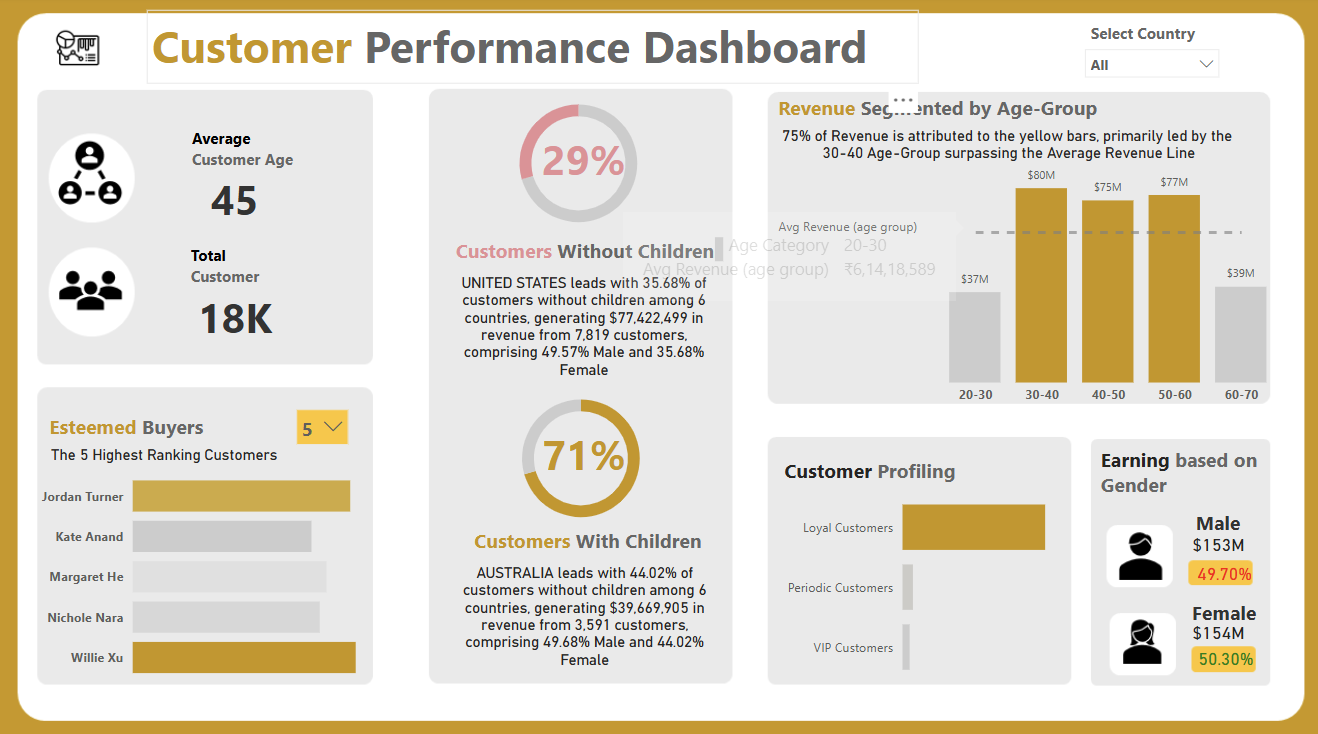

The page's visual inventory and layout, read from the dashboard file:
{"tool":"powerbi","page":{"name":"Page 1","canvas":[1280,720],"ordinal":0},"visuals":[{"type":"lineStackedColumnComboChart","fields":{"Category":["DimCustomer.Age Category"],"Y":["All Measures.Total Revenue"],"Y2":["Customers Measures.Avg Revenue (age group)"]},"box":[745,152.5,511.2,251.2],"z":0},{"type":"card","fields":{"Values":["Customers Measures.Avg Caption"]},"box":[721.2,97.5,508.8,92.5],"z":1000},{"type":"textbox","box":[748.2,90,333.6,36.4],"z":2000},{"type":"donutChart","fields":{"Y":["Customers Measures.% CWC","Customers Measures.% C without Children"]},"box":[464.2,85.2,191.8,152],"z":3000},{"type":"donutChart","fields":{"Y":["Customers Measures.% CWC","Customers Measures.% C without Children"]},"box":[466.9,370.9,191.8,152],"z":4000},{"type":"card","fields":{"Values":["Customers Measures.% C without Children"]},"box":[518.5,126.2,93.8,60],"z":5000},{"type":"card","fields":{"Values":["Customers Measures.% CWC"]},"box":[518.8,410.9,94.1,60.3],"z":6000},{"type":"textbox","box":[436.2,228.3,267.8,33.8],"z":7000},{"type":"textbox","box":[450,507.9,238.9,45.8],"z":8000},{"type":"card","fields":{"Values":["Customers Measures.Caption Customers Without Children"]},"box":[423.7,256.7,288.3,121.9],"z":9000},{"type":"card","fields":{"Values":["Customers Measures.Caption Customers With Children"]},"box":[418.4,535.4,299.2,124.3],"z":10000},{"type":"clusteredBarChart","fields":{"Category":["DimCustomer.Customer Type"],"Y":["All Measures.Total Revenue"]},"box":[749.3,454.7,280,226.2],"z":11000},{"type":"clusteredBarChart","fields":{"Category":["DimCustomer.Full Name"],"Y":["Customers Measures.Dynamic Customers"]},"box":[36.2,439.4,320.9,236.2],"z":12000},{"type":"slicer","fields":{"Values":["Dynamic Customers.Dynamic Customers"]},"box":[277.5,389,71.2,47.8],"z":13000},{"type":"card","fields":{"Values":["Customers Measures.% Female"]},"box":[1146.9,620,75.4,40],"z":14000},{"type":"card","fields":{"Values":["Customers Measures.% Male"]},"box":[1126.9,540,114.6,35.4],"z":15000},{"type":"card","fields":{"Values":["Customers Measures.Average Customer Age"]},"box":[165.3,160.5,126.7,71.2],"z":16000},{"type":"card","fields":{"Values":["Customers Measures.# Customers"]},"box":[165.1,274,127.2,72.1],"z":17000},{"type":"textbox","box":[182.2,121.9,155.6,59.1],"z":18000},{"type":"textbox","box":[181,235.3,156.8,60.3],"z":19000},{"type":"textbox","box":[1146.9,577.7,83.1,36.2],"z":20000},{"type":"textbox","box":[1151.5,490.8,70.8,34.6],"z":21000},{"type":"textbox","box":[44.6,398.4,188.2,38.6],"z":22000},{"type":"card","fields":{"Values":["Customers Measures.Title Top Customers"]},"box":[43.7,425.9,234,36.2],"z":23000},{"type":"textbox","box":[1059.3,429.3,188.7,68.7],"z":24000},{"type":"card","fields":{"Values":["Customers Measures.Male Revenue"]},"box":[1144.7,511.3,66.7,38.7],"z":25000},{"type":"card","fields":{"Values":["Customers Measures.Female Revenue"]},"box":[1144.7,595.6,66.7,38.7],"z":26000},{"type":"textbox","box":[143.8,13.8,745,71.2],"z":27000},{"type":"slicer","fields":{"Values":["DimGeography.Country"]},"box":[1038.8,41.2,150,52.5],"z":28000},{"type":"textbox","box":[1050,20,129.5,42.5],"z":29000},{"type":"textbox","box":[754.5,440.3,205,35],"z":30000}]}

Visuals, with their boxes in screenshot pixels (x1, y1, x2, y2), scaled from the page's 1280x720 canvas onto the 1318x734 screenshot:
lineStackedColumnComboChart - DimCustomer.Age Category x All Measures.Total Revenue: rect(767, 155, 1293, 412)
card - Customers Measures.Avg Caption: rect(743, 99, 1267, 194)
textbox: rect(770, 92, 1114, 129)
donutChart - Customers Measures.% CWC x Customers Measures.% C without Children: rect(478, 87, 675, 242)
donutChart - Customers Measures.% CWC x Customers Measures.% C without Children: rect(481, 378, 678, 533)
card - Customers Measures.% C without Children: rect(534, 129, 630, 190)
card - Customers Measures.% CWC: rect(534, 419, 631, 480)
textbox: rect(449, 233, 725, 267)
textbox: rect(463, 518, 709, 564)
card - Customers Measures.Caption Customers Without Children: rect(436, 262, 733, 386)
card - Customers Measures.Caption Customers With Children: rect(431, 546, 739, 673)
clusteredBarChart - DimCustomer.Customer Type x All Measures.Total Revenue: rect(772, 464, 1060, 694)
clusteredBarChart - DimCustomer.Full Name x Customers Measures.Dynamic Customers: rect(37, 448, 368, 689)
slicer - Dynamic Customers.Dynamic Customers: rect(286, 397, 359, 445)
card - Customers Measures.% Female: rect(1181, 632, 1259, 673)
card - Customers Measures.% Male: rect(1160, 550, 1278, 587)
card - Customers Measures.Average Customer Age: rect(170, 164, 301, 236)
card - Customers Measures.# Customers: rect(170, 279, 301, 353)
textbox: rect(188, 124, 348, 185)
textbox: rect(186, 240, 348, 301)
textbox: rect(1181, 589, 1267, 626)
textbox: rect(1186, 500, 1259, 536)
textbox: rect(46, 406, 240, 445)
card - Customers Measures.Title Top Customers: rect(45, 434, 286, 471)
textbox: rect(1091, 438, 1285, 508)
card - Customers Measures.Male Revenue: rect(1179, 521, 1247, 561)
card - Customers Measures.Female Revenue: rect(1179, 607, 1247, 647)
textbox: rect(148, 14, 915, 87)
slicer - DimGeography.Country: rect(1070, 42, 1224, 96)
textbox: rect(1081, 20, 1215, 64)
textbox: rect(777, 449, 988, 485)
